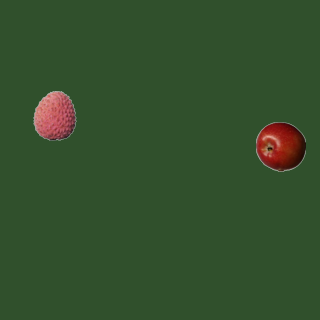Apple Braeburn: (255, 121, 305, 171)
Lychee: (29, 90, 79, 140)
